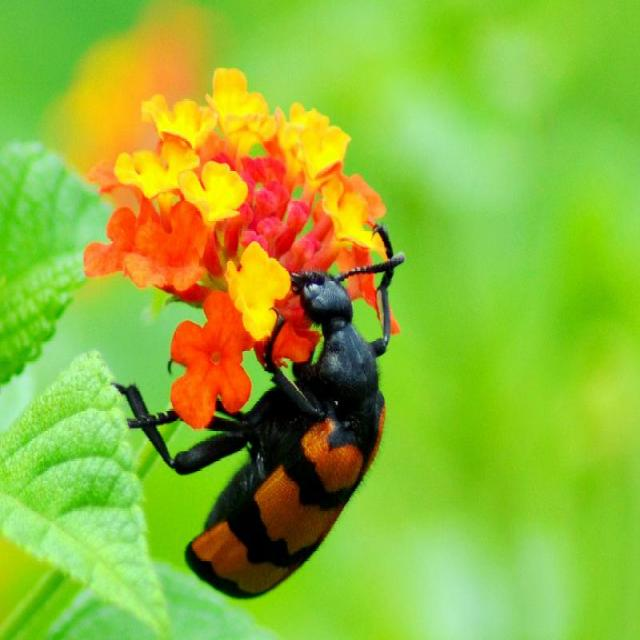BlisterBeetle-Adult-: (111, 220, 406, 600)
